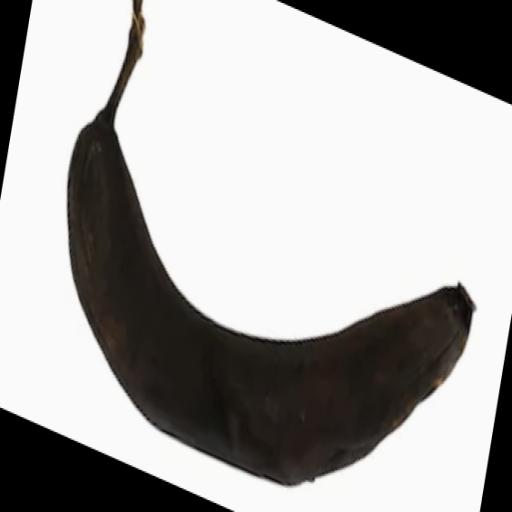banana-overripe: (28, 44, 484, 496)
